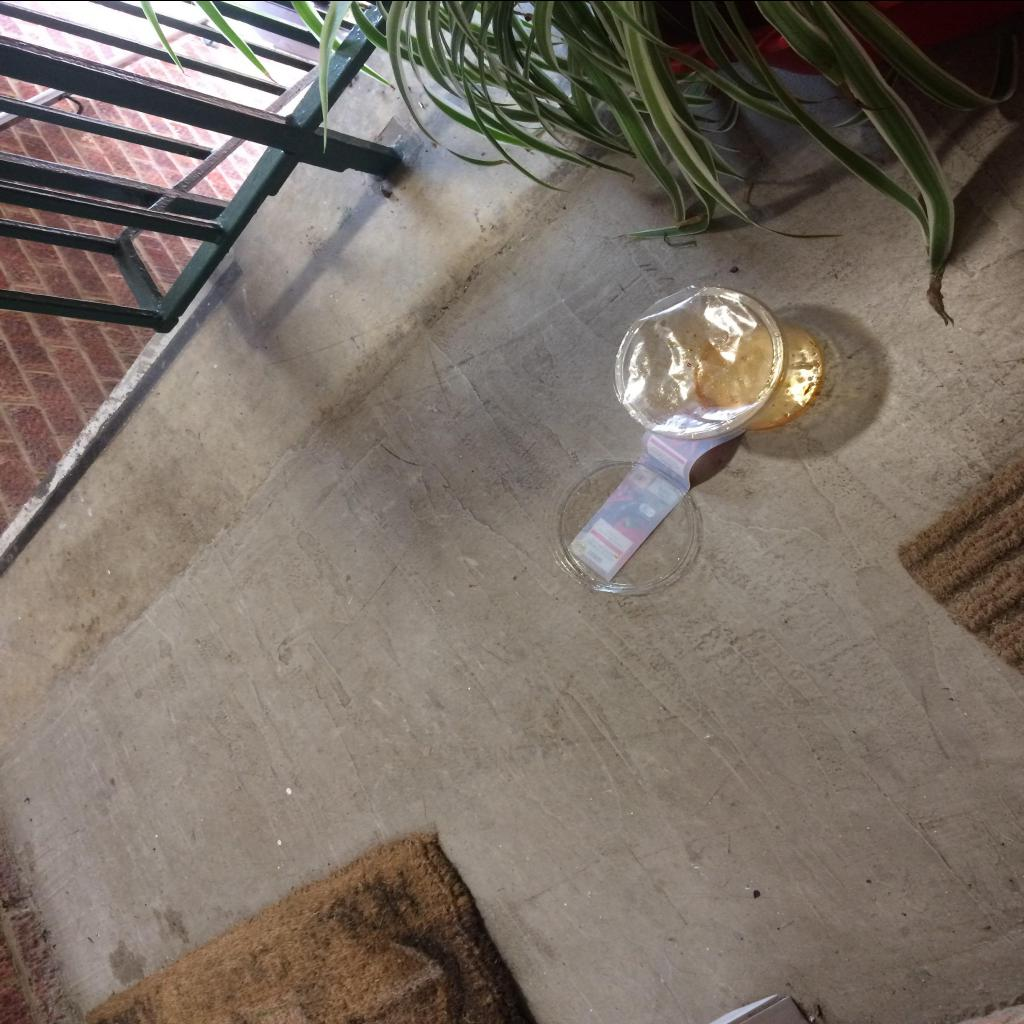Disposable food container: (614, 286, 824, 440)
Plastic film: (613, 282, 783, 440)
Plastic lid: (547, 459, 698, 593)
Unlabeled litter: (568, 428, 744, 580)
